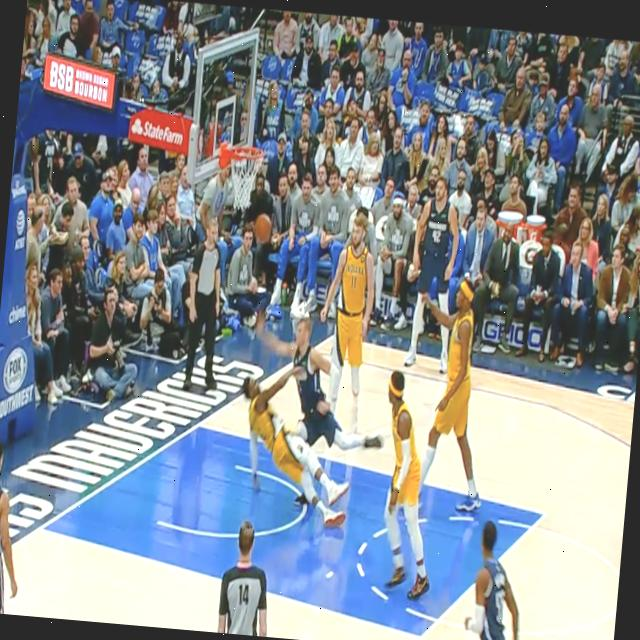foul: (207, 298, 386, 536)
no foul: (354, 266, 487, 617)
